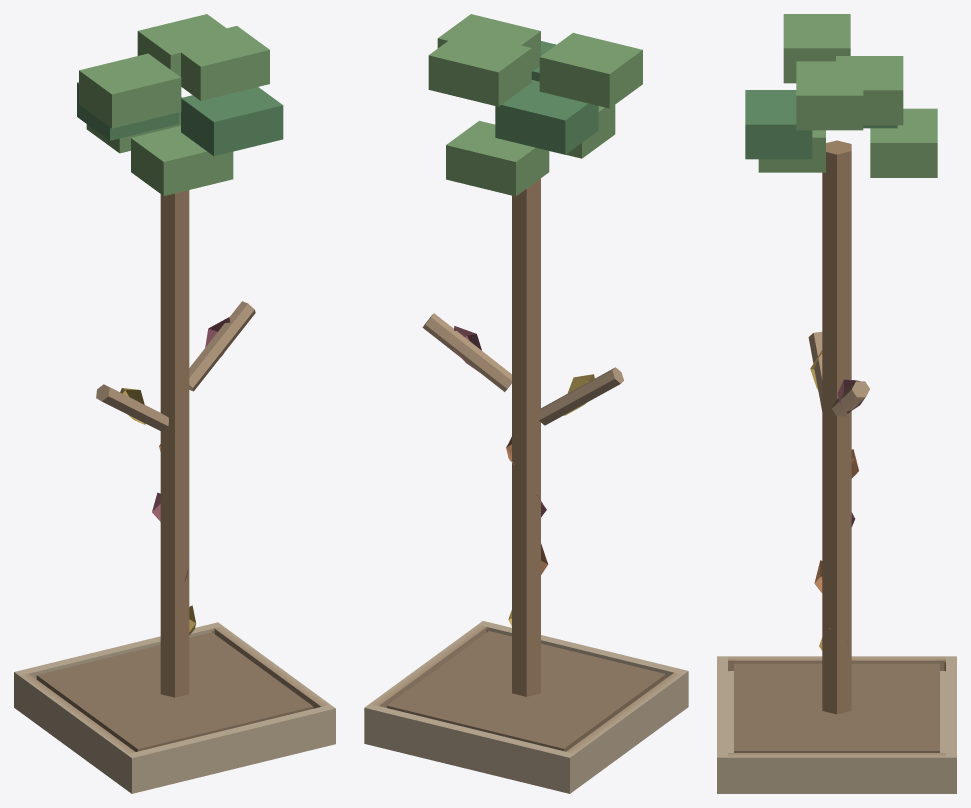
The model's file is cacao_cosecha_far.glb.
3 views of the same model, side by side, from view 1: azimuth 30°, elevation 25°; view 2: azimuth 150°, elevation 25°; view 3: azimuth 270°, elevation 25° (orthographic).
Parts seen in each view (by area): view 1: model; view 2: model; view 3: model.
Boxes of the visible parts, bbox=[...] form: model: bbox=[14, 14, 335, 793]; model: bbox=[364, 14, 688, 793]; model: bbox=[717, 14, 956, 793].
Size of the model in its own units: 1 by 3.15 by 1.
